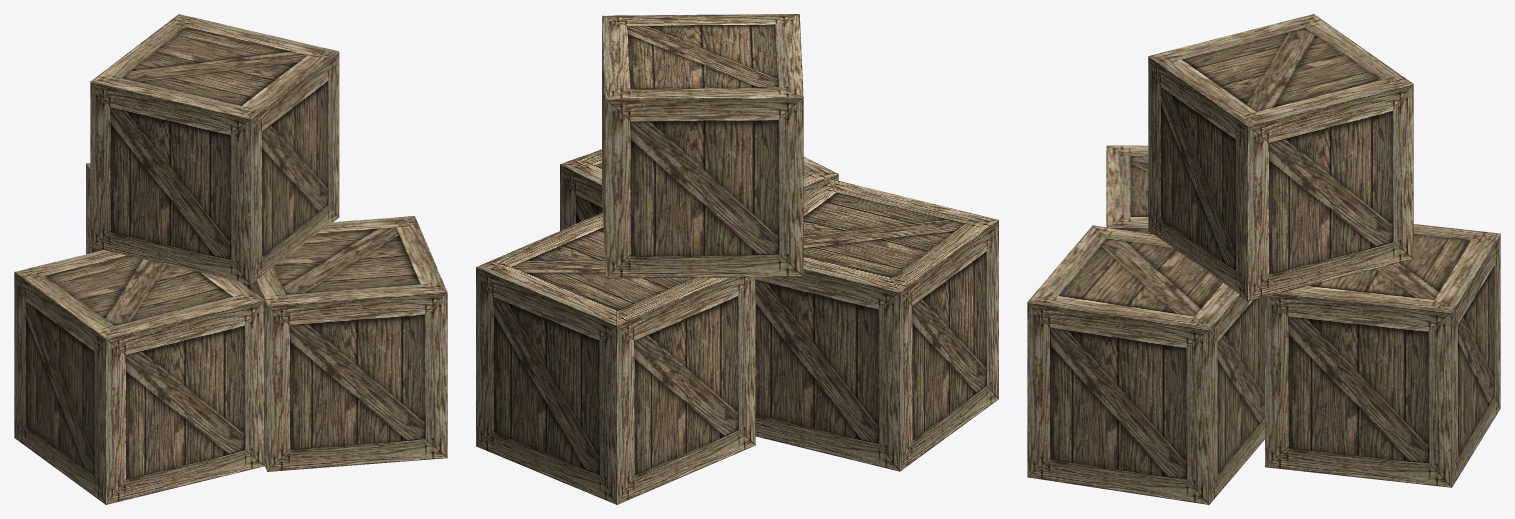
The model's file is Collector.obj.
3 views of the same model, side by side, from view 1: azimuth 30°, elevation 25°; view 2: azimuth 150°, elevation 25°; view 3: azimuth 270°, elevation 25° (orthographic). The views are drawn at different scales.
Visible parts, largest first — view 1: Cube.002_Cube.001, Cube_Cube.001, Cube.001, Cube.003_Cube.001; view 2: Cube.003_Cube.001, Cube_Cube.001, Cube.002_Cube.001, Cube.001; view 3: Cube.002_Cube.001, Cube.001, Cube.003_Cube.001, Cube_Cube.001.
Part boxes in pixels (x1=…): Cube.002_Cube.001: x1=90, y1=14, x2=339, y2=285; Cube_Cube.001: x1=14, y1=250, x2=264, y2=504; Cube.001: x1=241, y1=216, x2=447, y2=471; Cube.003_Cube.001: x1=86, y1=163, x2=101, y2=254; Cube.003_Cube.001: x1=476, y1=213, x2=755, y2=504; Cube_Cube.001: x1=755, y1=178, x2=998, y2=471; Cube.002_Cube.001: x1=602, y1=14, x2=803, y2=278; Cube.001: x1=560, y1=149, x2=838, y2=230; Cube.002_Cube.001: x1=1148, y1=14, x2=1413, y2=301; Cube.001: x1=1027, y1=225, x2=1264, y2=504; Cube.003_Cube.001: x1=1265, y1=224, x2=1500, y2=487; Cube_Cube.001: x1=1106, y1=145, x2=1151, y2=234.
Bounding box in the file's own units: 4.51 × 4.01 × 4.9.
1 material, 1 textured.
